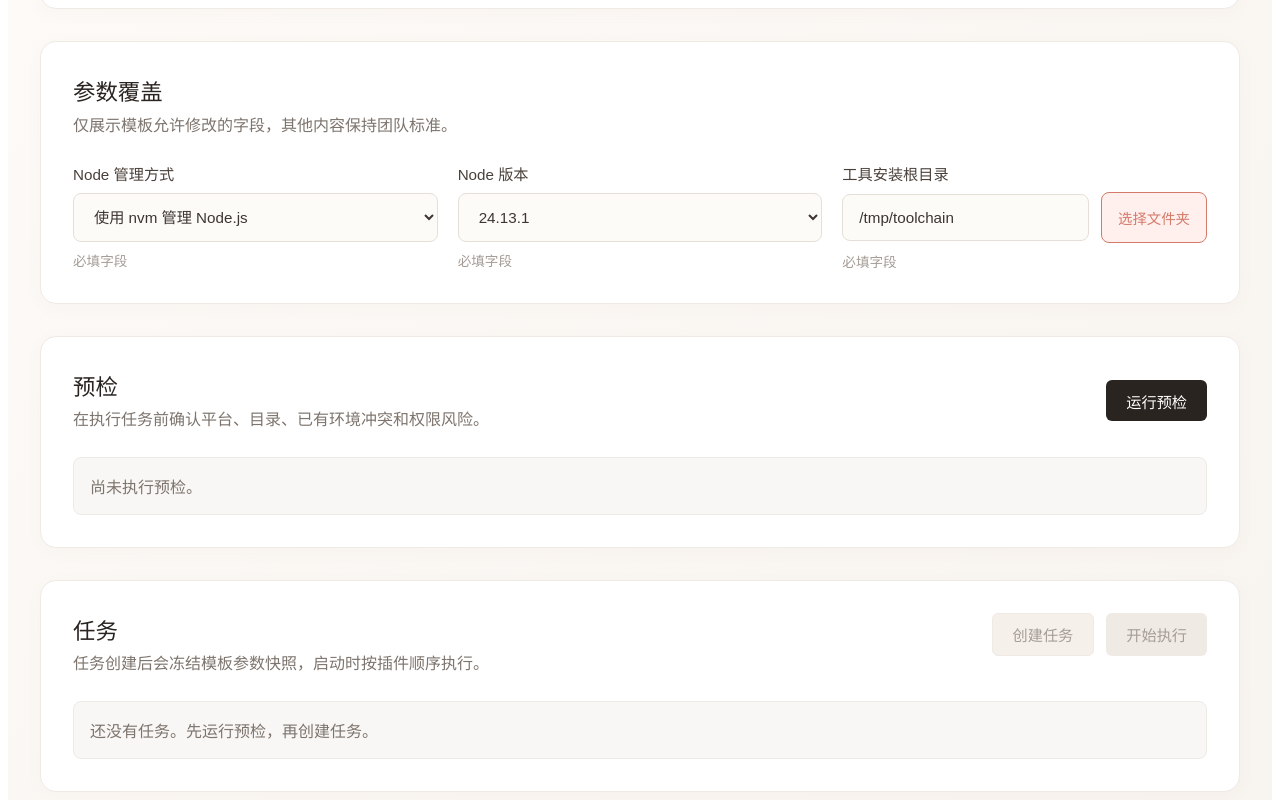
Test: App › cancels running task from task panel
(page scrolled)
Click the button "运行预检".
click(1157, 401)  # box [1106,380,1207,421]
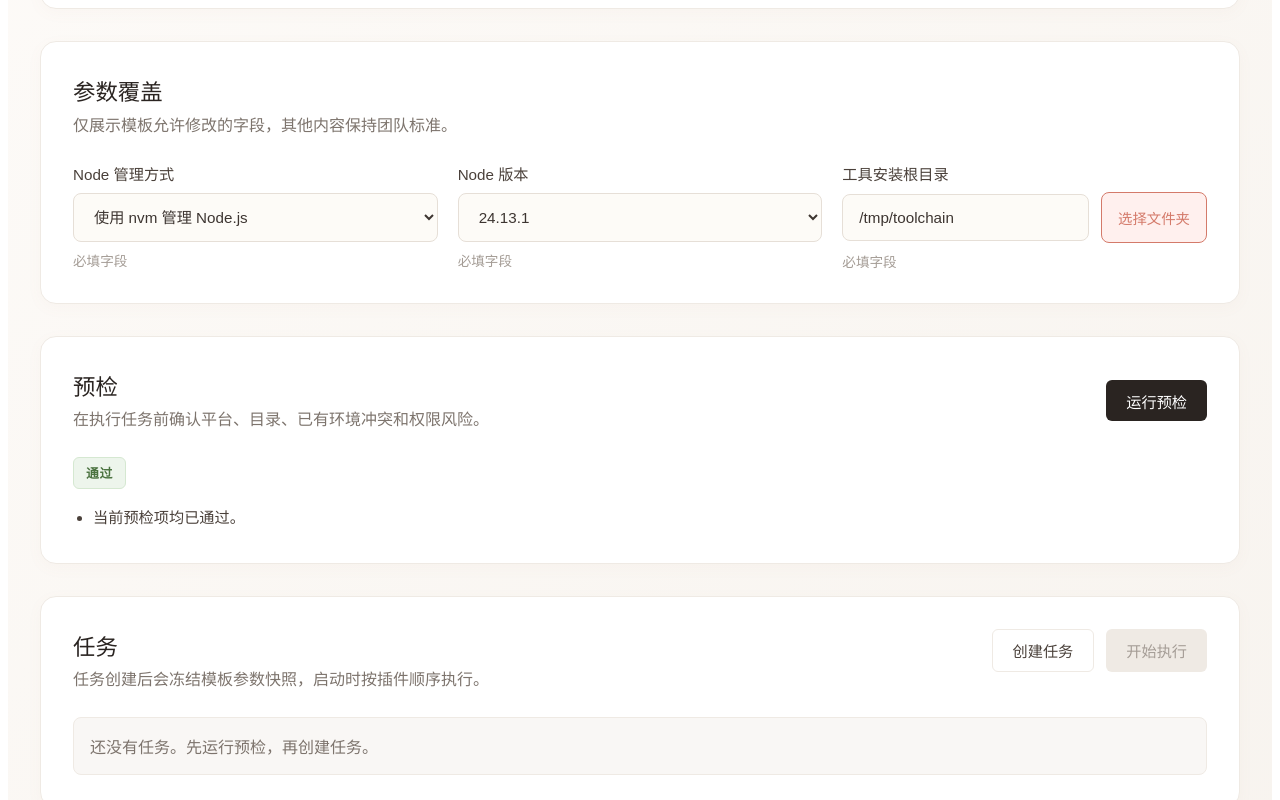
Now the list item "当前预检项均已通过。" is shown, box [93,509,245,526]
Now the button "创建任务" is enabled
Click the button "创建任务".
click(1043, 650)  # box [992,629,1094,672]
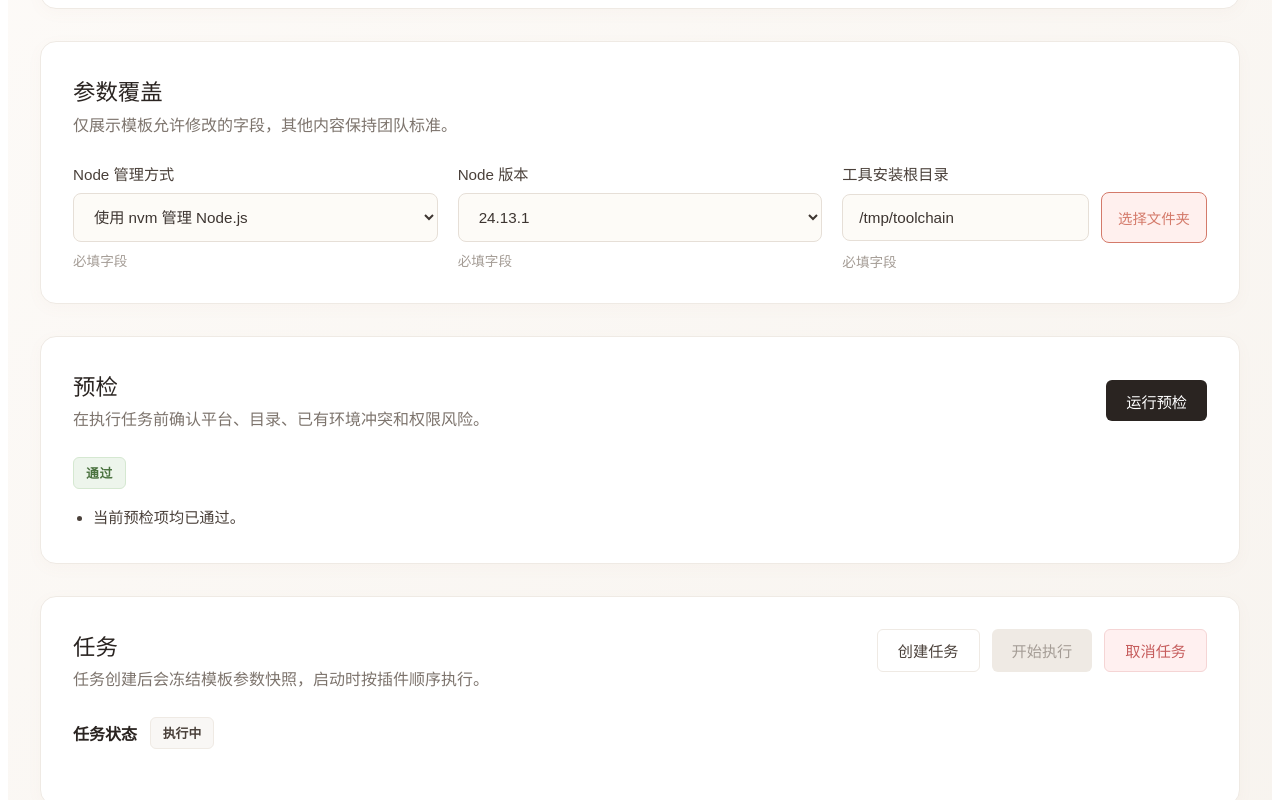
Now the text "执行中" is shown, box [150,717,214,749]
Click the button "取消任务".
click(1156, 650)  # box [1104,629,1207,672]
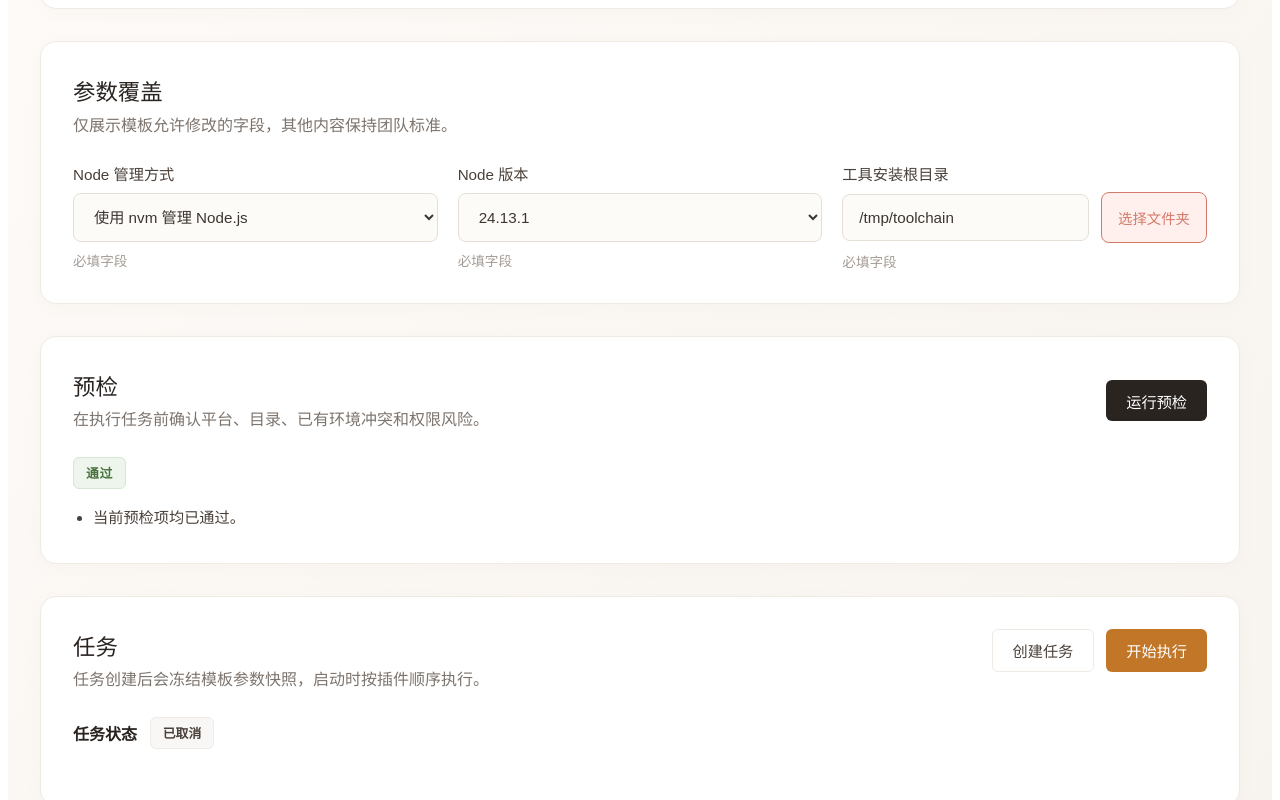
Now the text "已取消" is shown, box [150,717,214,749]
